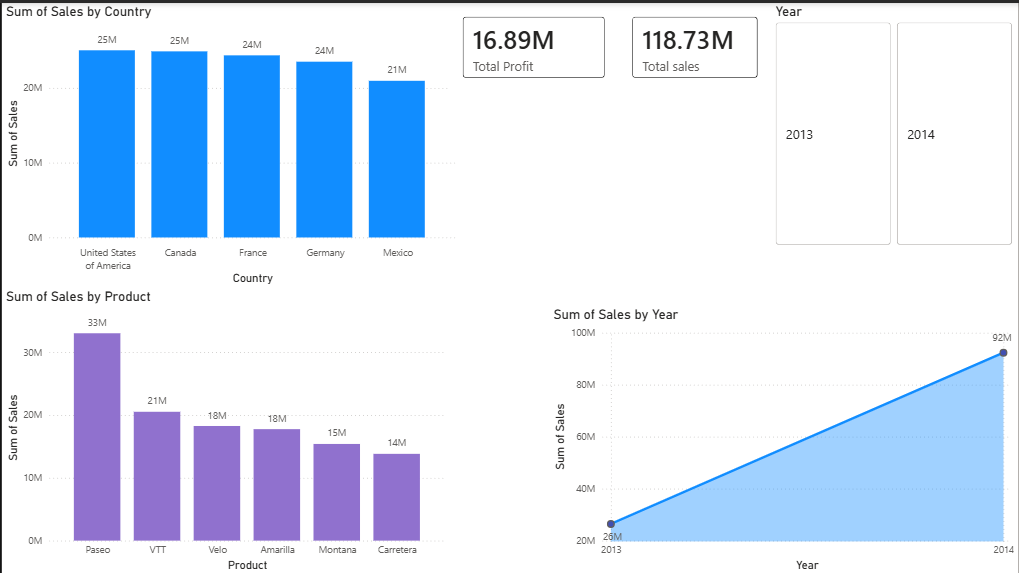

This screenshot's page, from the dashboard's own definition file:
{"tool":"powerbi","page":{"name":"Page 1","canvas":[1280,720],"ordinal":0},"visuals":[{"type":"clusteredColumnChart","fields":{"Category":["FactFinancials.Country"],"Y":["Sum(FactFinancials.Sales)"]},"box":[0,13.2,421.4,368.5],"z":0},{"type":"lineChart","fields":{"Category":["FactFinancials.Year"],"Y":["Sum(FactFinancials.Sales)"]},"box":[0,381.7,589.6,338.3],"z":1000},{"type":"cardVisual","fields":{"Data":["FactFinancials.Total Profit"]},"box":[563.2,0,232.4,111.5],"z":2000},{"type":"advancedSlicerVisual","fields":{"Values":["FactFinancials.Year"]},"box":[1046.9,0,232.4,257],"z":3000},{"type":"cardVisual","fields":{"Data":["FactFinancials.Total sales"]},"box":[776.7,0,206,100.2],"z":4000},{"type":"clusteredColumnChart","fields":{"Category":["DimProduct.Product"],"Y":["Sum(FactFinancials.Sales)"]},"box":[590,328.6,457.4,392],"z":5000}]}

Visuals, with their boxes in screenshot pixels (x1, y1, x2, y2), scaled from the page's 1280x720 canvas onto the 1019x573 screenshot:
clusteredColumnChart - FactFinancials.Country x Sum(FactFinancials.Sales): (left=0, top=11, right=335, bottom=304)
lineChart - FactFinancials.Year x Sum(FactFinancials.Sales): (left=0, top=304, right=469, bottom=572)
cardVisual - FactFinancials.Total Profit: (left=448, top=0, right=633, bottom=89)
advancedSlicerVisual - FactFinancials.Year: (left=833, top=0, right=1018, bottom=205)
cardVisual - FactFinancials.Total sales: (left=618, top=0, right=782, bottom=80)
clusteredColumnChart - DimProduct.Product x Sum(FactFinancials.Sales): (left=470, top=262, right=834, bottom=572)
